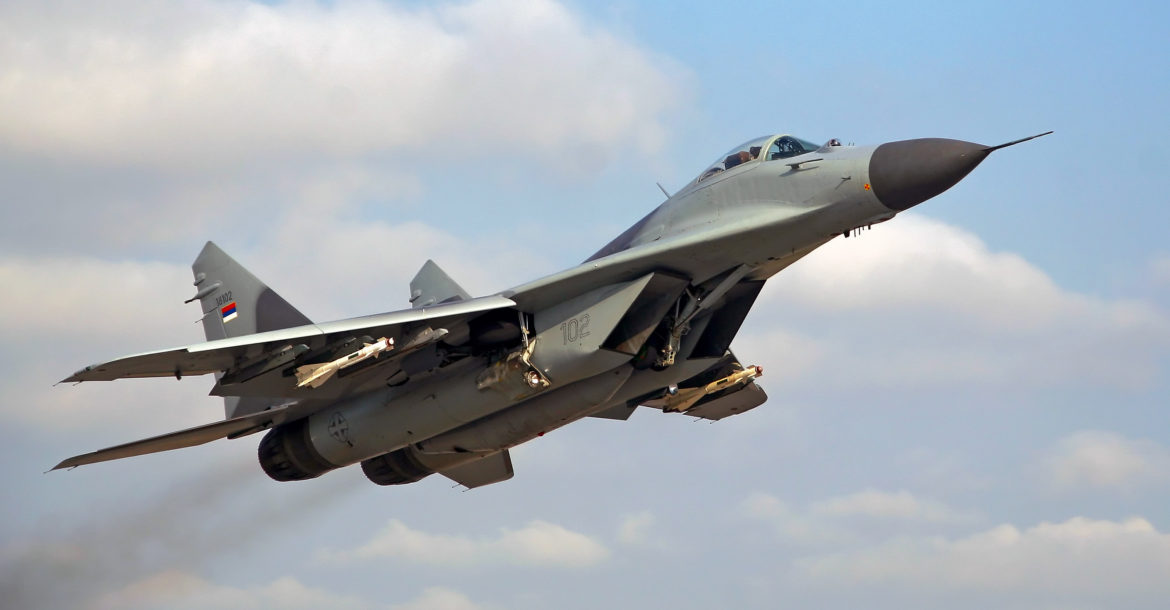Mig-29: (47, 61, 1081, 529)
